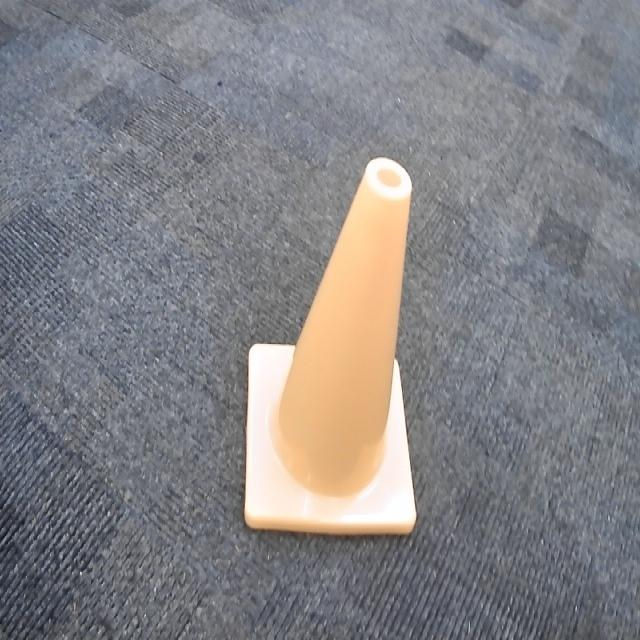cone: (247, 154, 416, 532)
